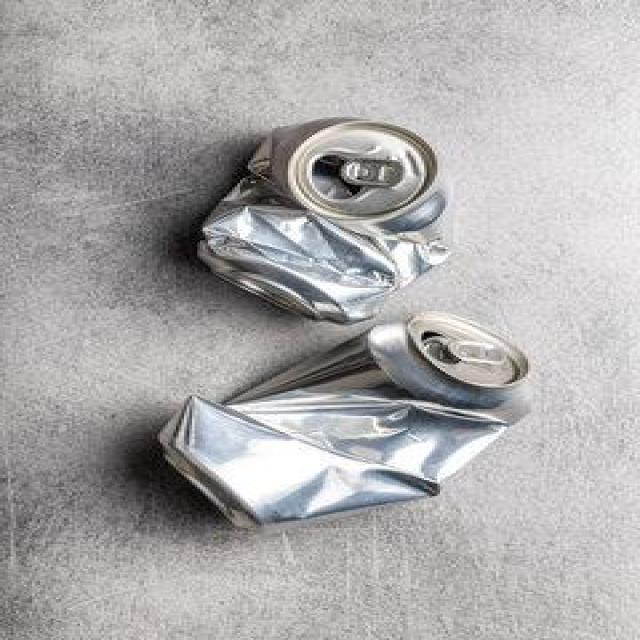can: (154, 310, 536, 534), (192, 116, 453, 325)
pop tab: (341, 158, 407, 189), (445, 340, 511, 365)
